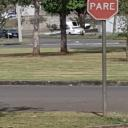Pare: (86, 0, 120, 21)
